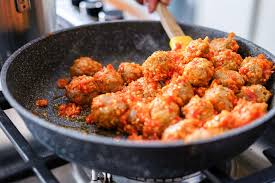bakso: (69, 28, 264, 149)
